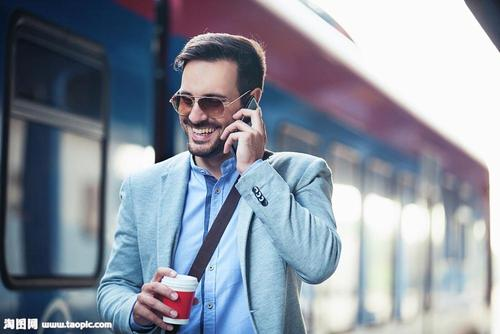calling: (220, 95, 268, 174)
